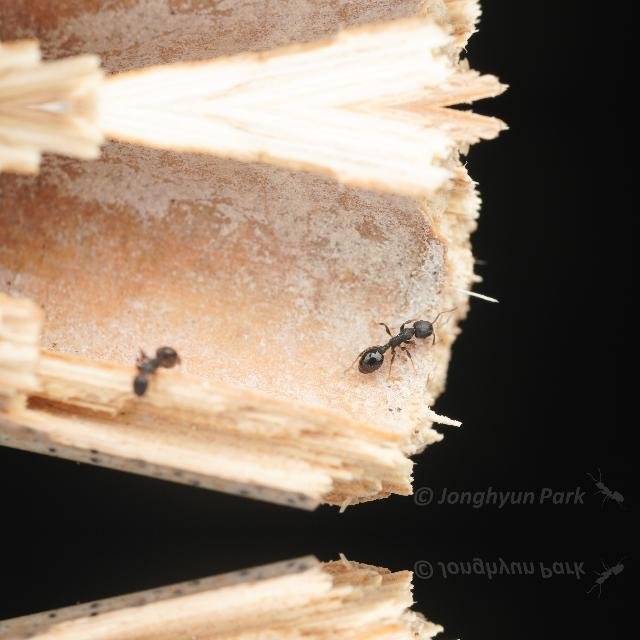Temnothorax: (336, 302, 454, 380), (109, 334, 189, 400)
